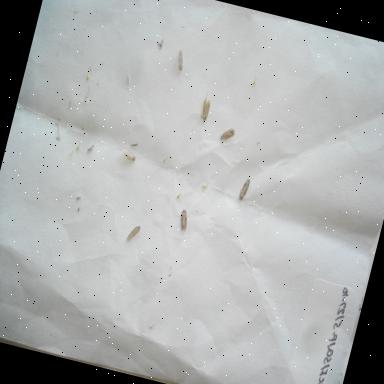pbw: (231, 171, 256, 208), (191, 92, 216, 128), (170, 204, 195, 238), (213, 120, 241, 150), (115, 142, 142, 166), (124, 222, 141, 246), (173, 48, 187, 72)
